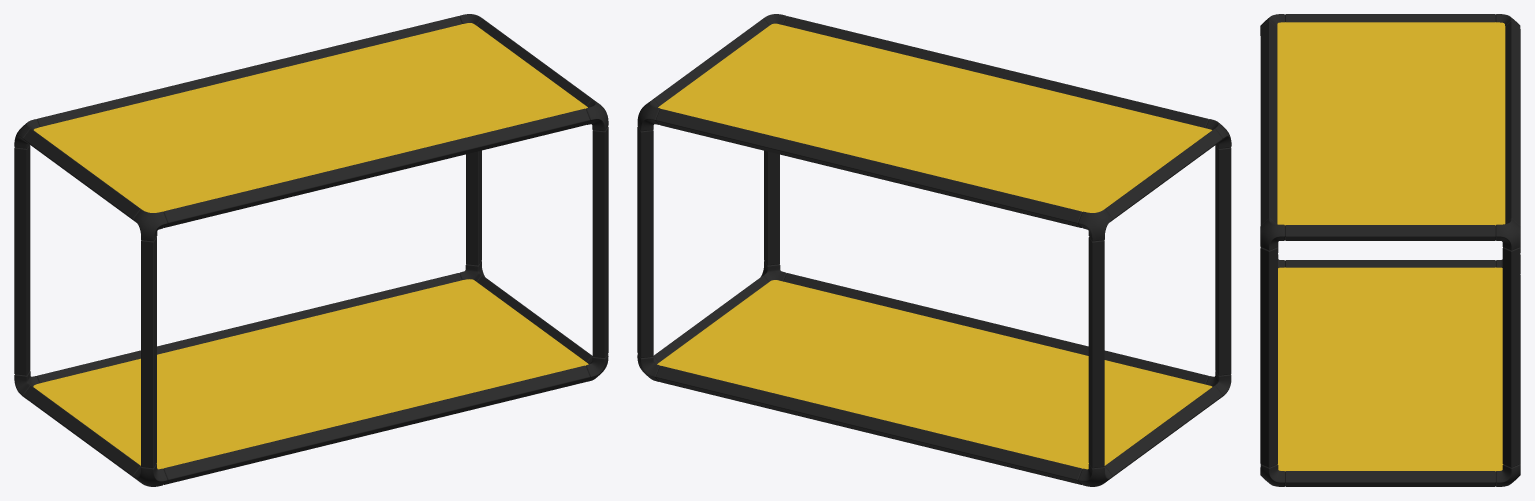
The picture shows the model from 3 angles, left to right: view 1: azimuth 30°, elevation 25°; view 2: azimuth 150°, elevation 25°; view 3: azimuth 270°, elevation 25°; orthographic projection. The views are drawn at different scales.
Parts seen in each view (by area): view 1: 729x329x374; view 2: 729x329x374; view 3: 729x329x374.
Part boxes in pixels (<box>): 729x329x374: <box>14,14,608,486</box>; 729x329x374: <box>637,14,1231,486</box>; 729x329x374: <box>1260,14,1520,486</box>.
Size of the model in its own units: 0.8067 by 0.4516 by 0.4063.
